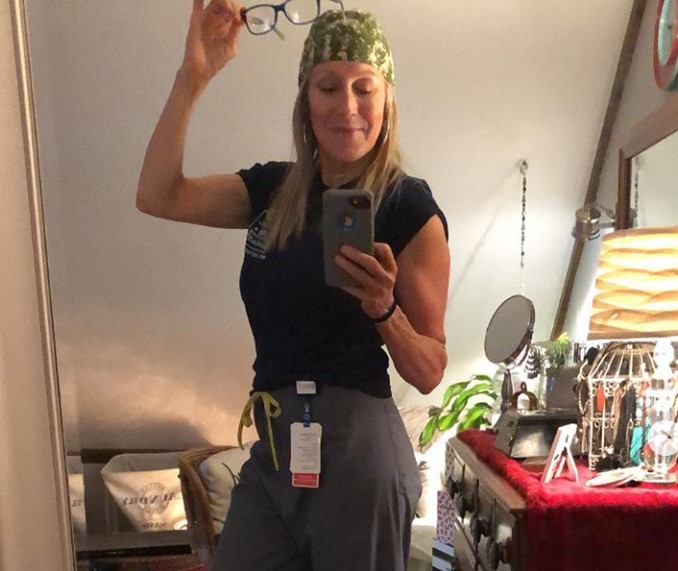face_no_mask: (306, 24, 394, 161)
